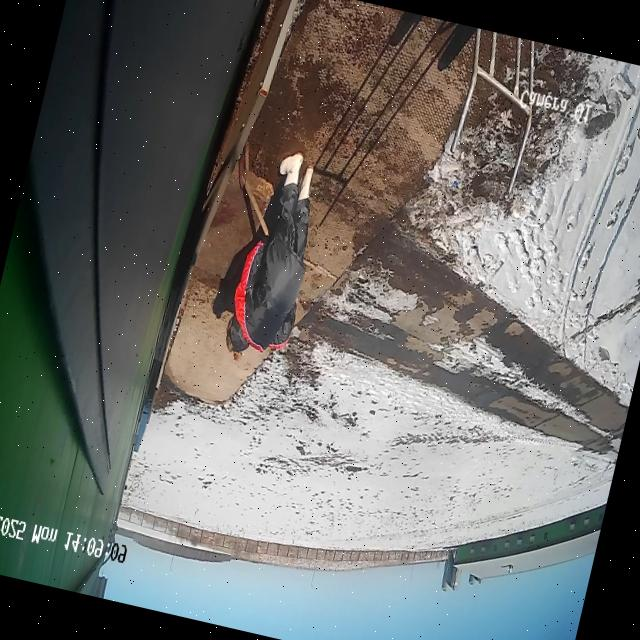Red uniform: (220, 169, 327, 362)
